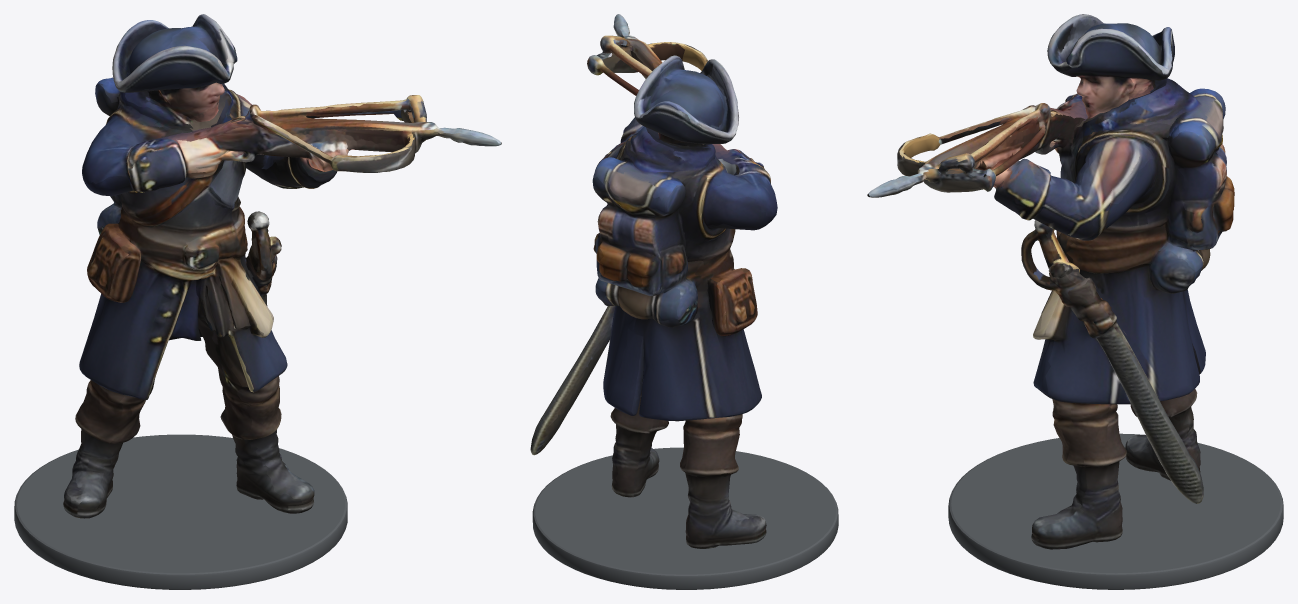
File: sailor-marine.glb
3 views of the same model, side by side, from view 1: azimuth 30°, elevation 25°; view 2: azimuth 150°, elevation 25°; view 3: azimuth 270°, elevation 25° (orthographic). The views are drawn at different scales.
Visible parts, largest first — view 1: sailor-marine_body, sailor-marine_round_base; view 2: sailor-marine_body, sailor-marine_round_base; view 3: sailor-marine_body, sailor-marine_round_base.
Boxes of the visible parts, x1,y1,x2,y2 form: sailor-marine_body: (63,14,501,518); sailor-marine_round_base: (14,434,347,589); sailor-marine_body: (530,14,777,548); sailor-marine_round_base: (532,447,838,589); sailor-marine_body: (867,14,1234,549); sailor-marine_round_base: (948,433,1283,589).
Size of the model in its own units: 1.18 by 1.65 by 1.24.
2 materials, 1 textured.
